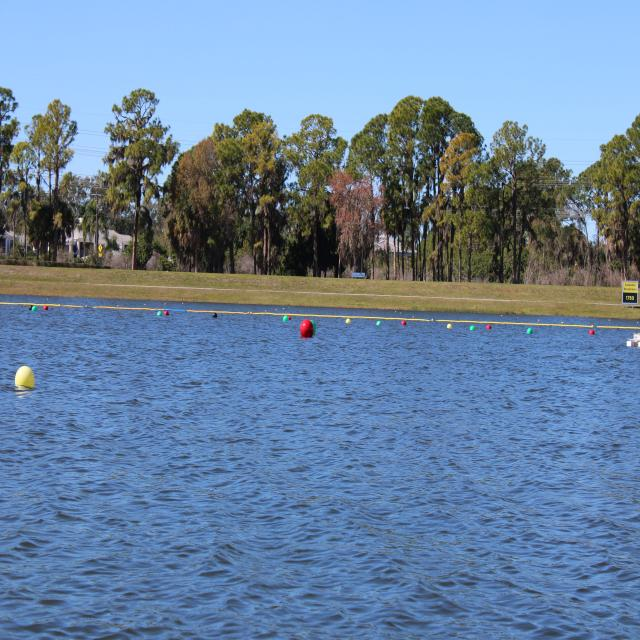green-buoy: (527, 327, 533, 335), (377, 320, 383, 328), (32, 307, 38, 313), (472, 328, 477, 334)
red-buoy: (302, 320, 316, 340), (401, 320, 406, 326), (163, 309, 168, 315), (43, 306, 48, 312), (488, 327, 492, 333)
yellow-buoy: (15, 364, 34, 388), (346, 318, 352, 325)
